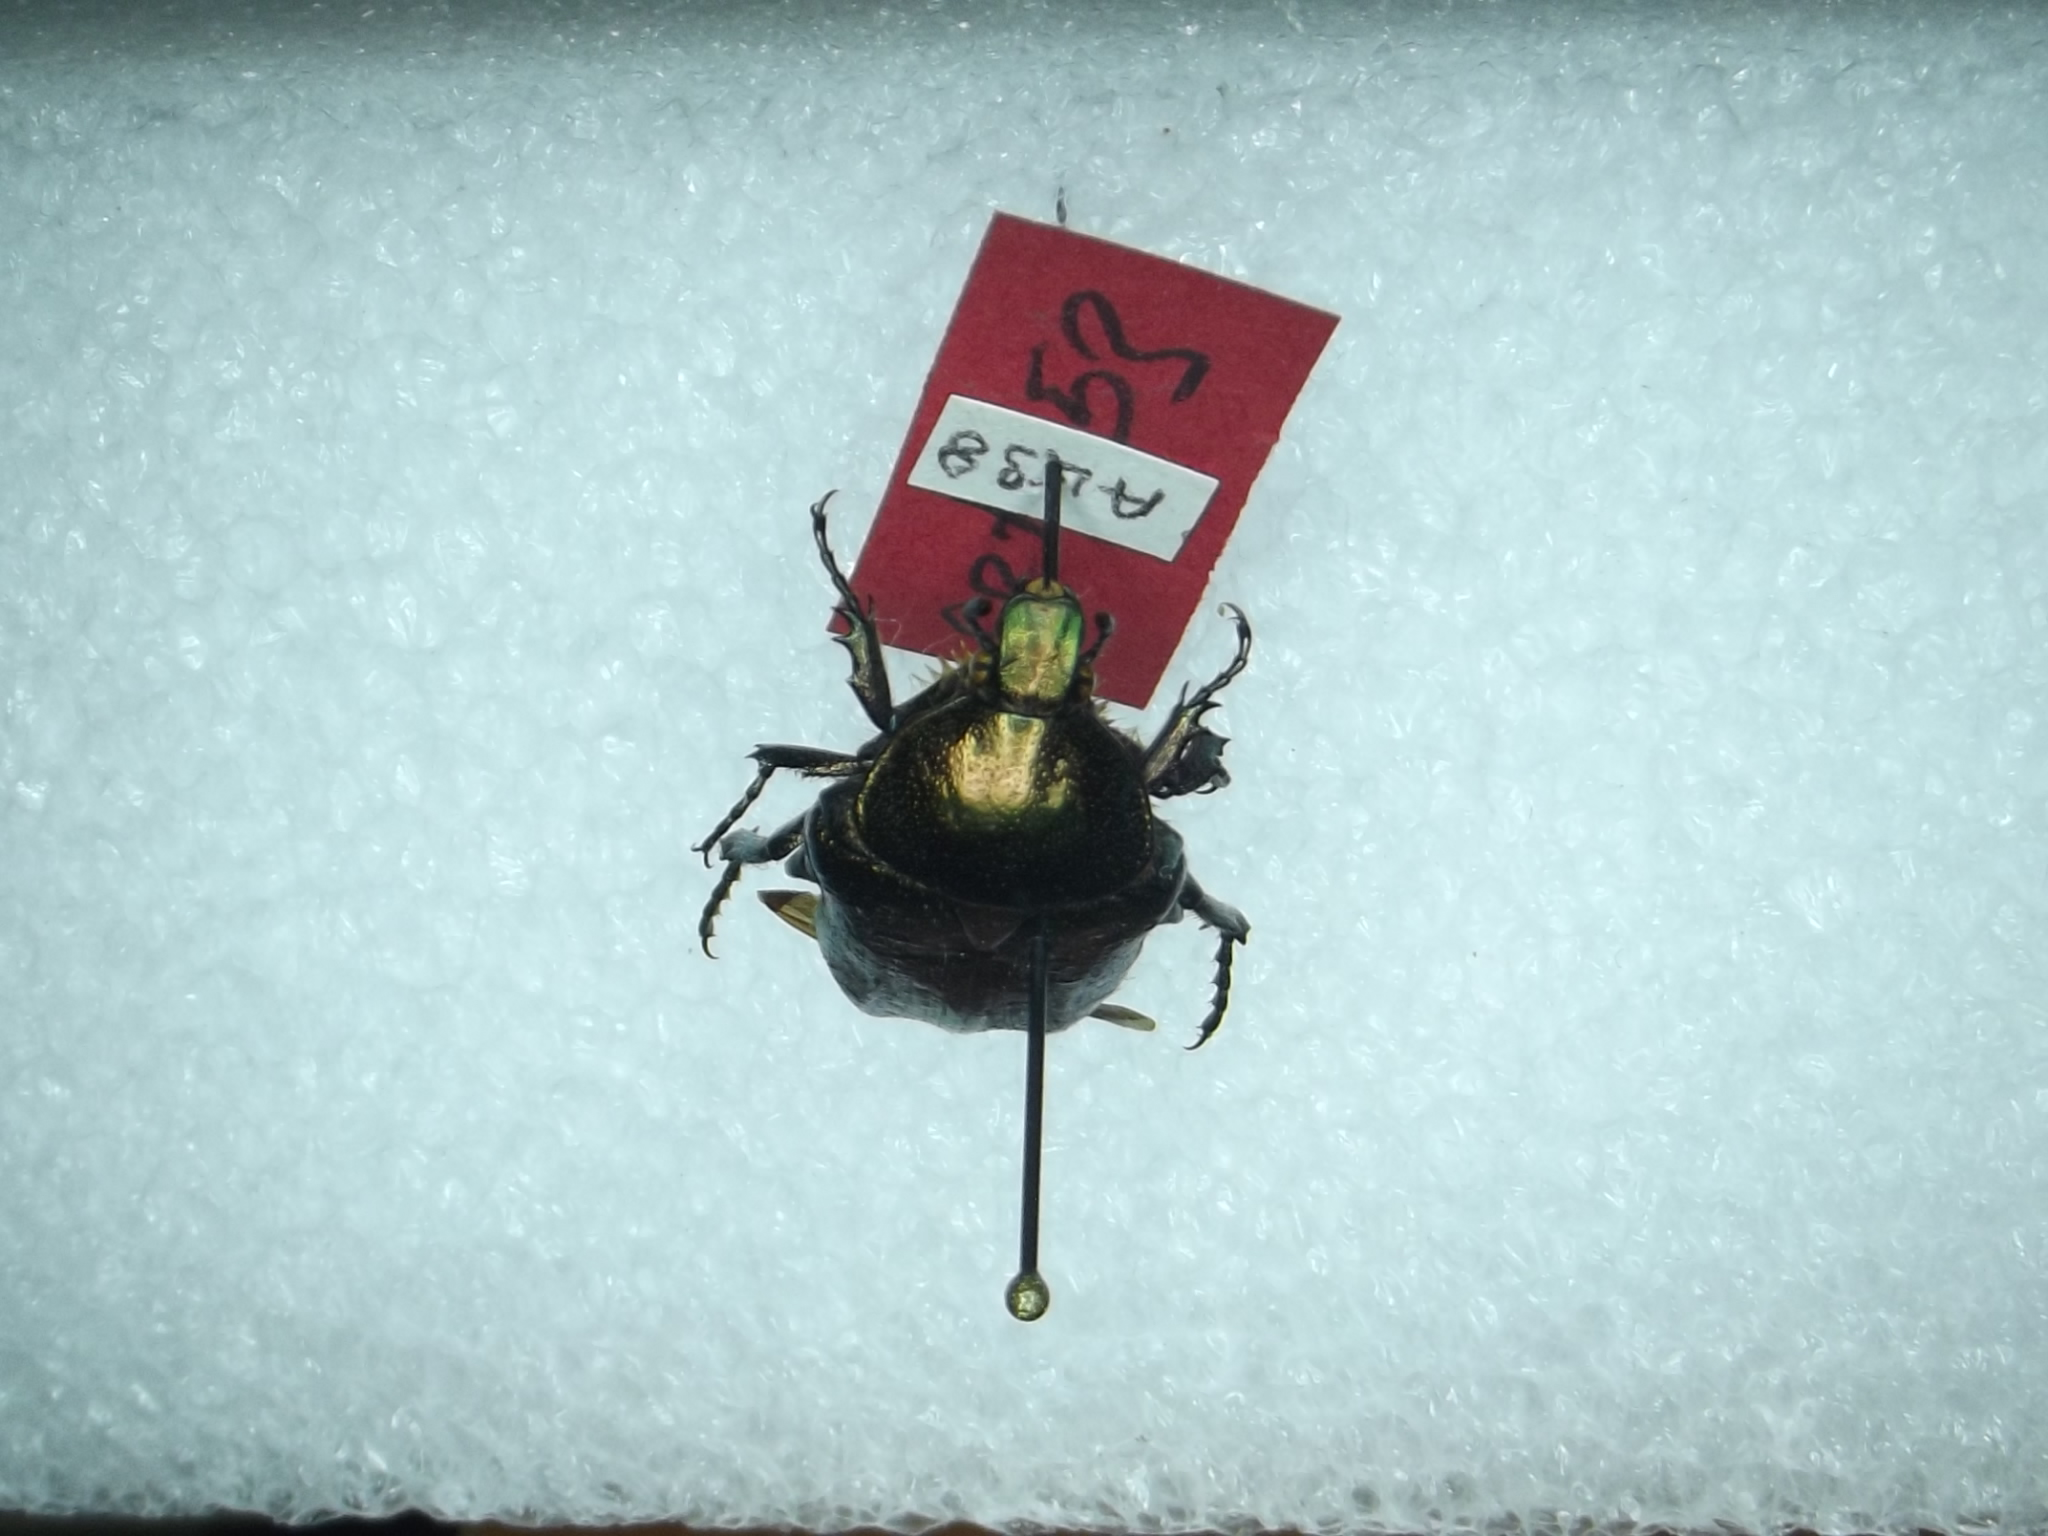Cetonia_kemali: (679, 458, 1292, 1084)
